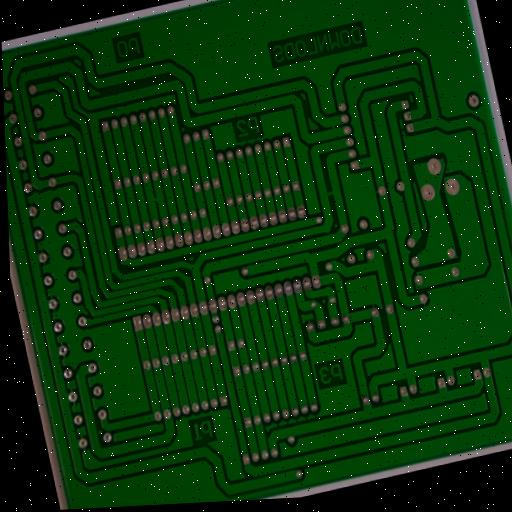short_circuit: (317, 178, 345, 206), (322, 111, 345, 142), (145, 186, 166, 211)
